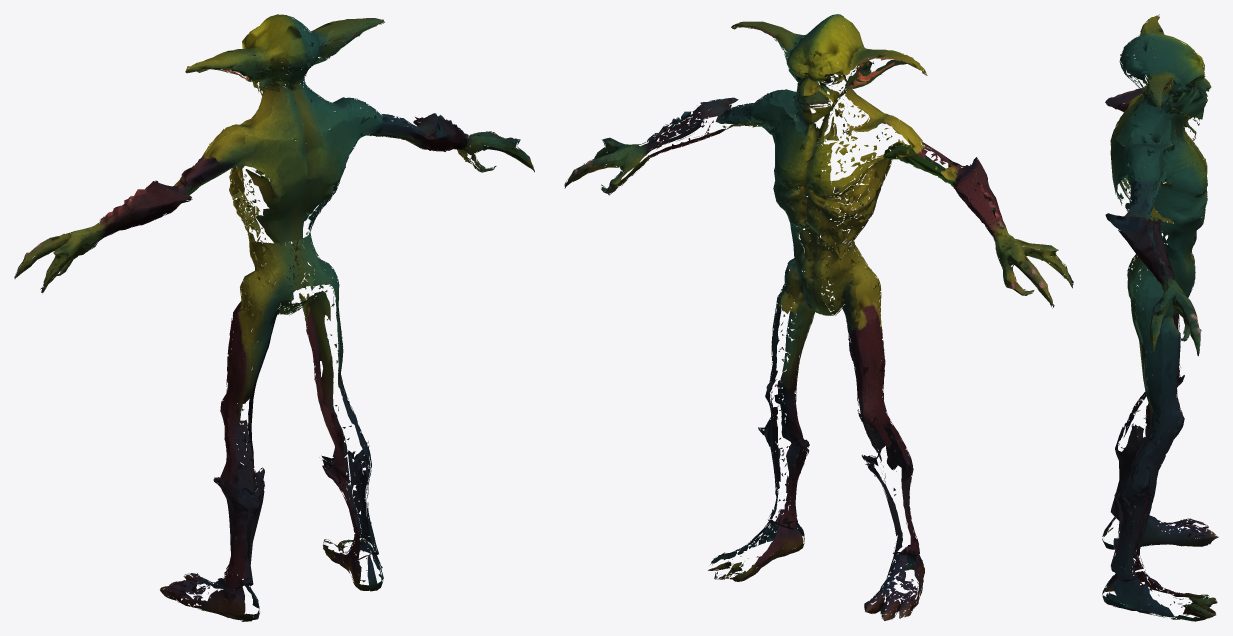
File: goblin.glb
The picture shows the model from 3 angles, left to right: view 1: azimuth 30°, elevation 25°; view 2: azimuth 150°, elevation 25°; view 3: azimuth 270°, elevation 25°; orthographic projection. The views are drawn at different scales.
Visible parts, largest first — view 1: Hero; view 2: Hero; view 3: Hero.
Boxes of the visible parts, x1,y1,x2,y2 form: Hero: [14, 14, 534, 621]; Hero: [564, 14, 1073, 620]; Hero: [1102, 14, 1218, 621].
Bounding box in the file's own units: 0.9117 × 1 × 0.1943.
1 material, 1 textured.
